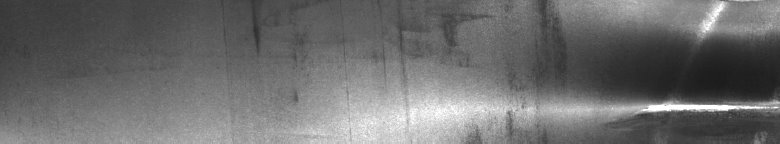ke: (400, 4, 776, 136)
